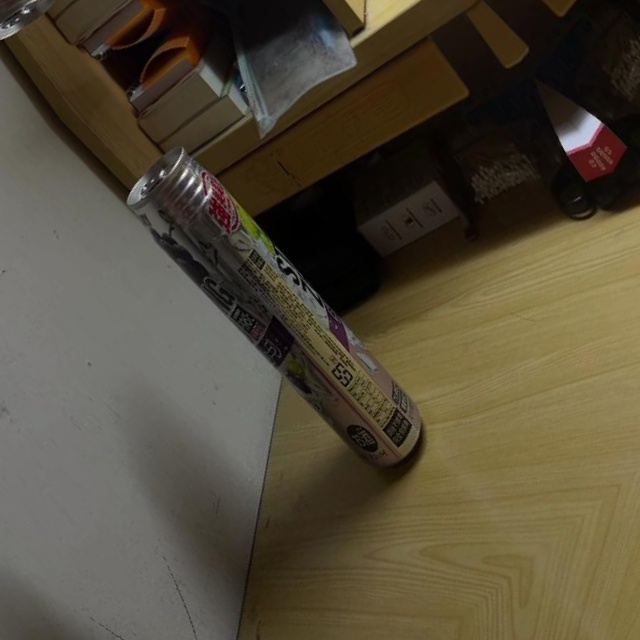Liquor: (115, 131, 441, 495)
